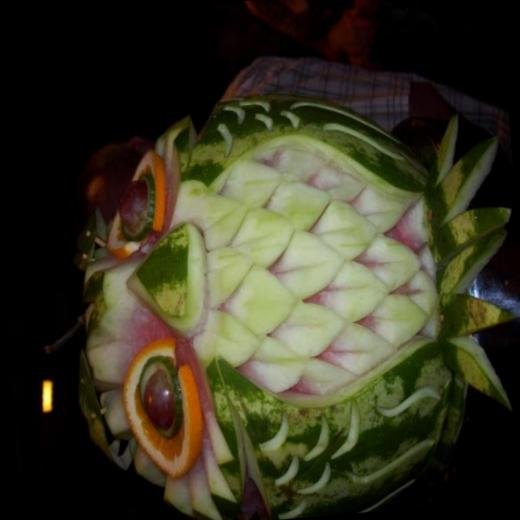Cherry: (23, 68, 520, 520)
